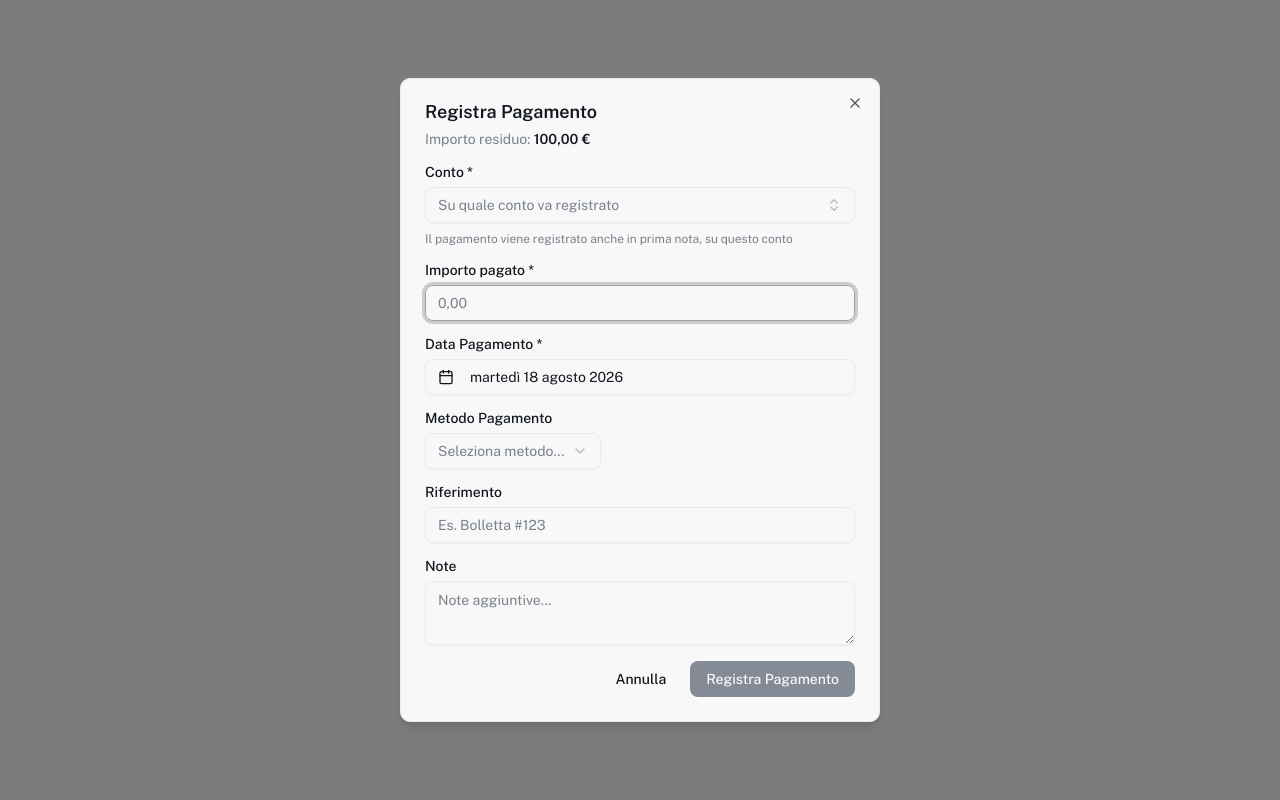
Scenario: finestra del pagamento › senza conto non registra e lo dice
In the number field with id "importo": (640, 303) 425,285 -> 855,321, type "100"
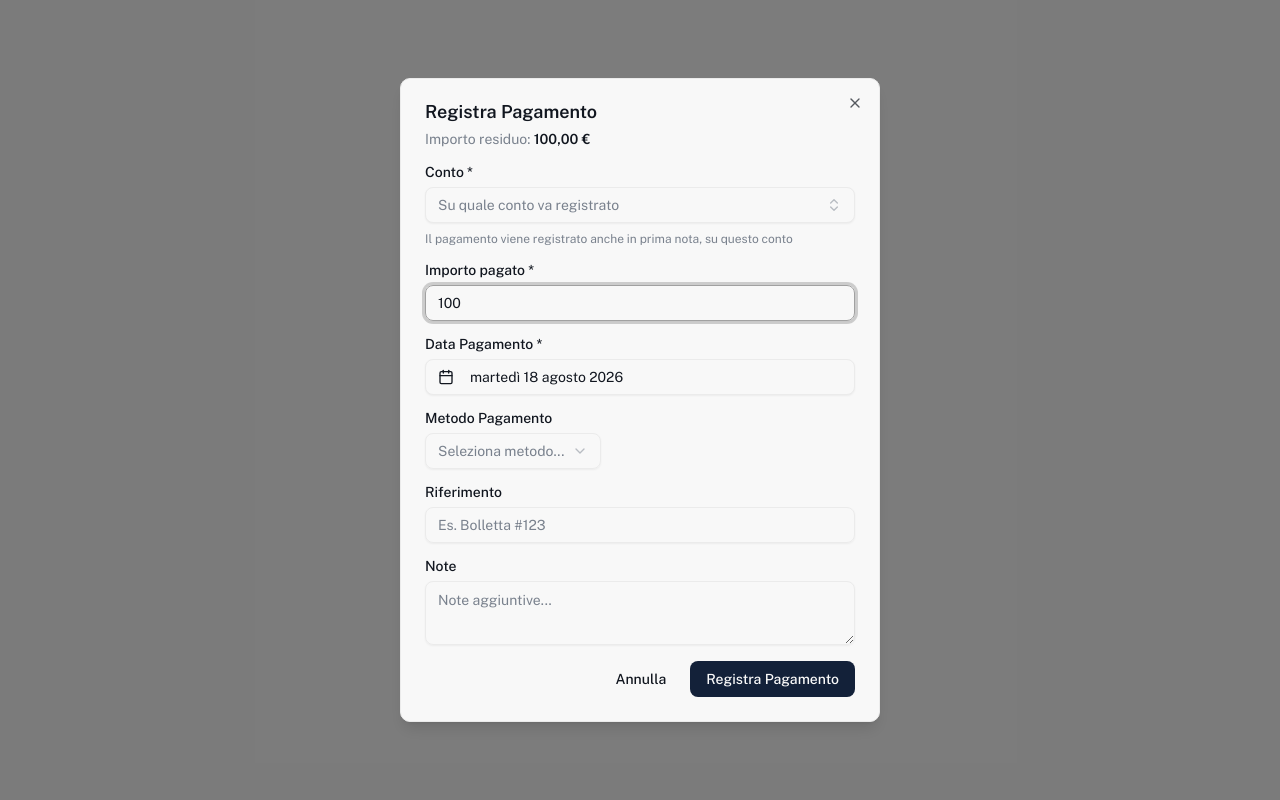
Click the button "Registra Pagamento": (773, 679) 690,661 -> 855,697
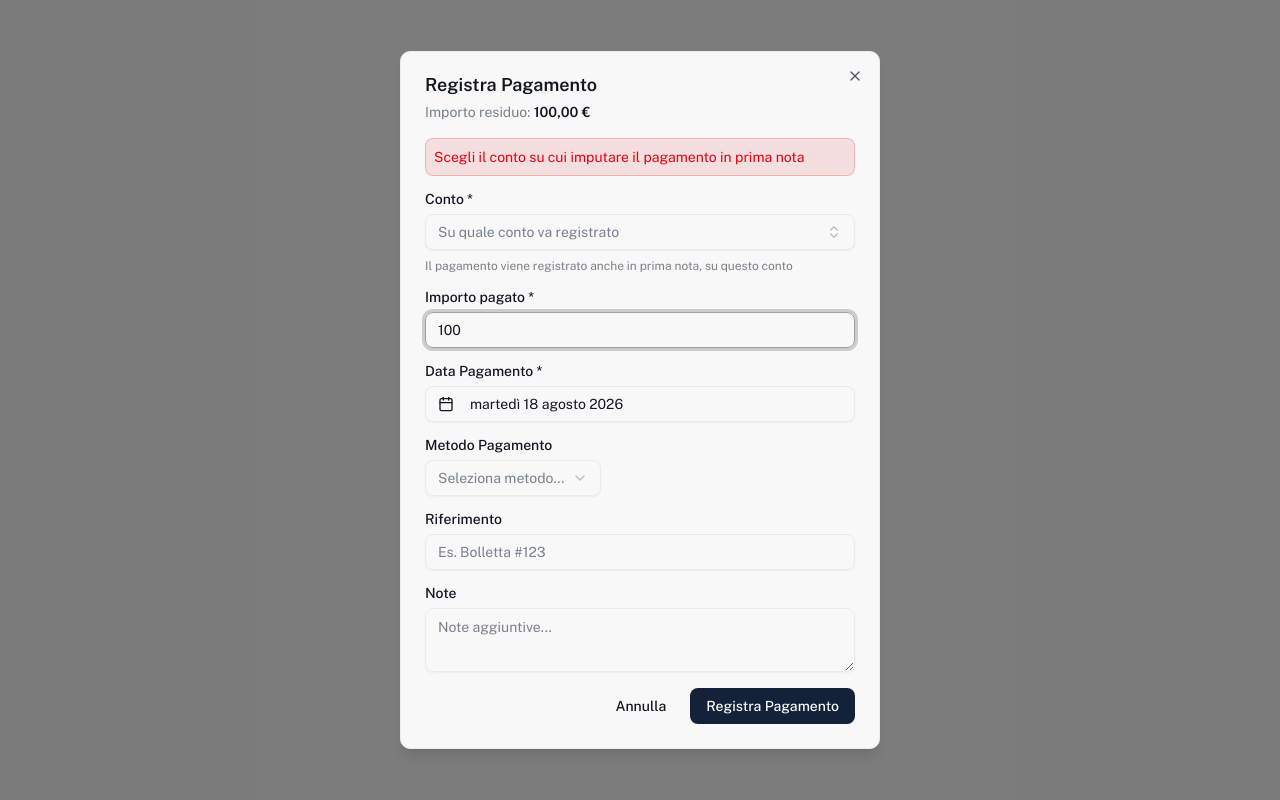
Now the text "Scegli il conto" is shown, box 434,149 -> 804,165
